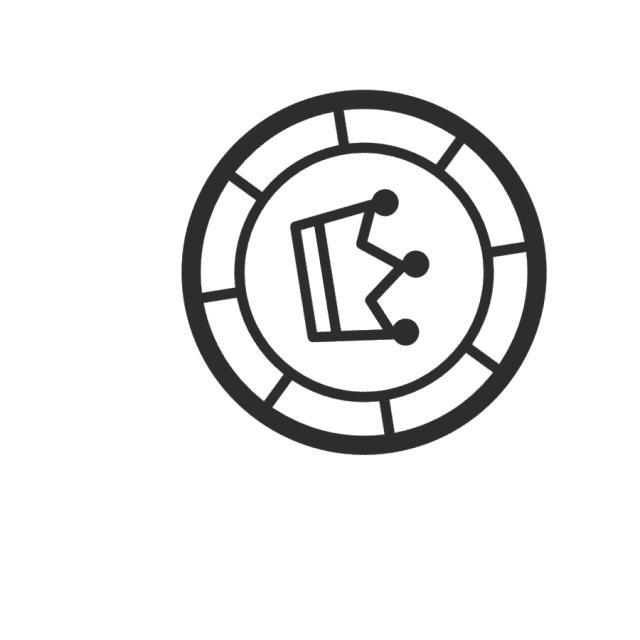coin: (174, 84, 553, 466)
